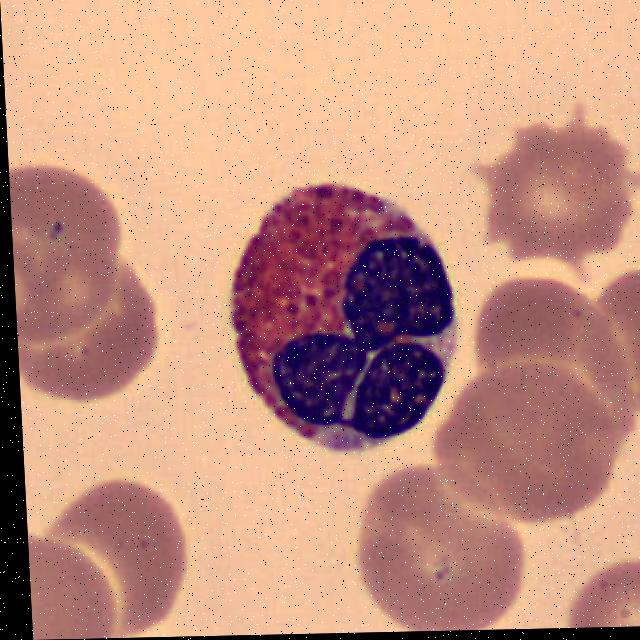eosinophil: (219, 175, 469, 454)
rbc: (353, 456, 534, 632), (472, 268, 640, 454), (464, 97, 640, 271), (440, 357, 621, 521), (43, 479, 197, 640), (20, 247, 166, 411), (8, 154, 128, 345), (27, 504, 149, 640), (578, 257, 640, 430), (558, 545, 640, 628)
